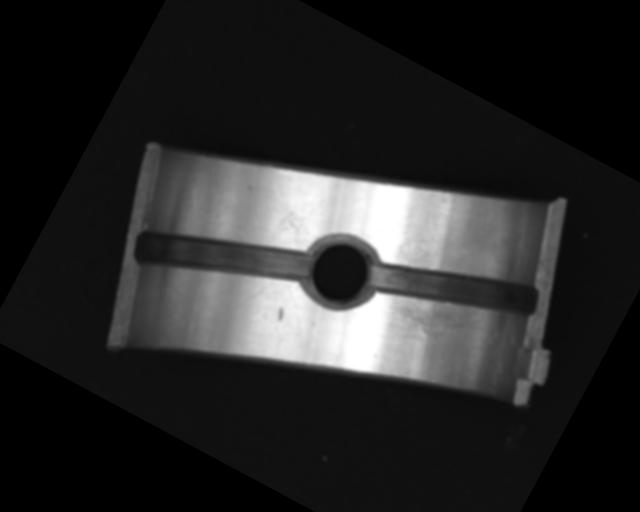bruise: (273, 305, 288, 323)
gap: (129, 181, 315, 335), (367, 215, 544, 357)
hole: (291, 222, 390, 321)
scratch: (383, 274, 489, 360)
